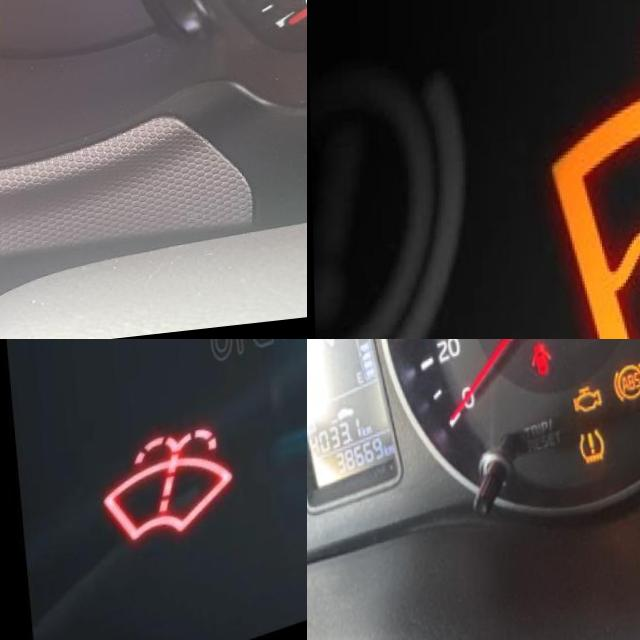Washer Fluid: (544, 0, 640, 339), (99, 430, 231, 547)
